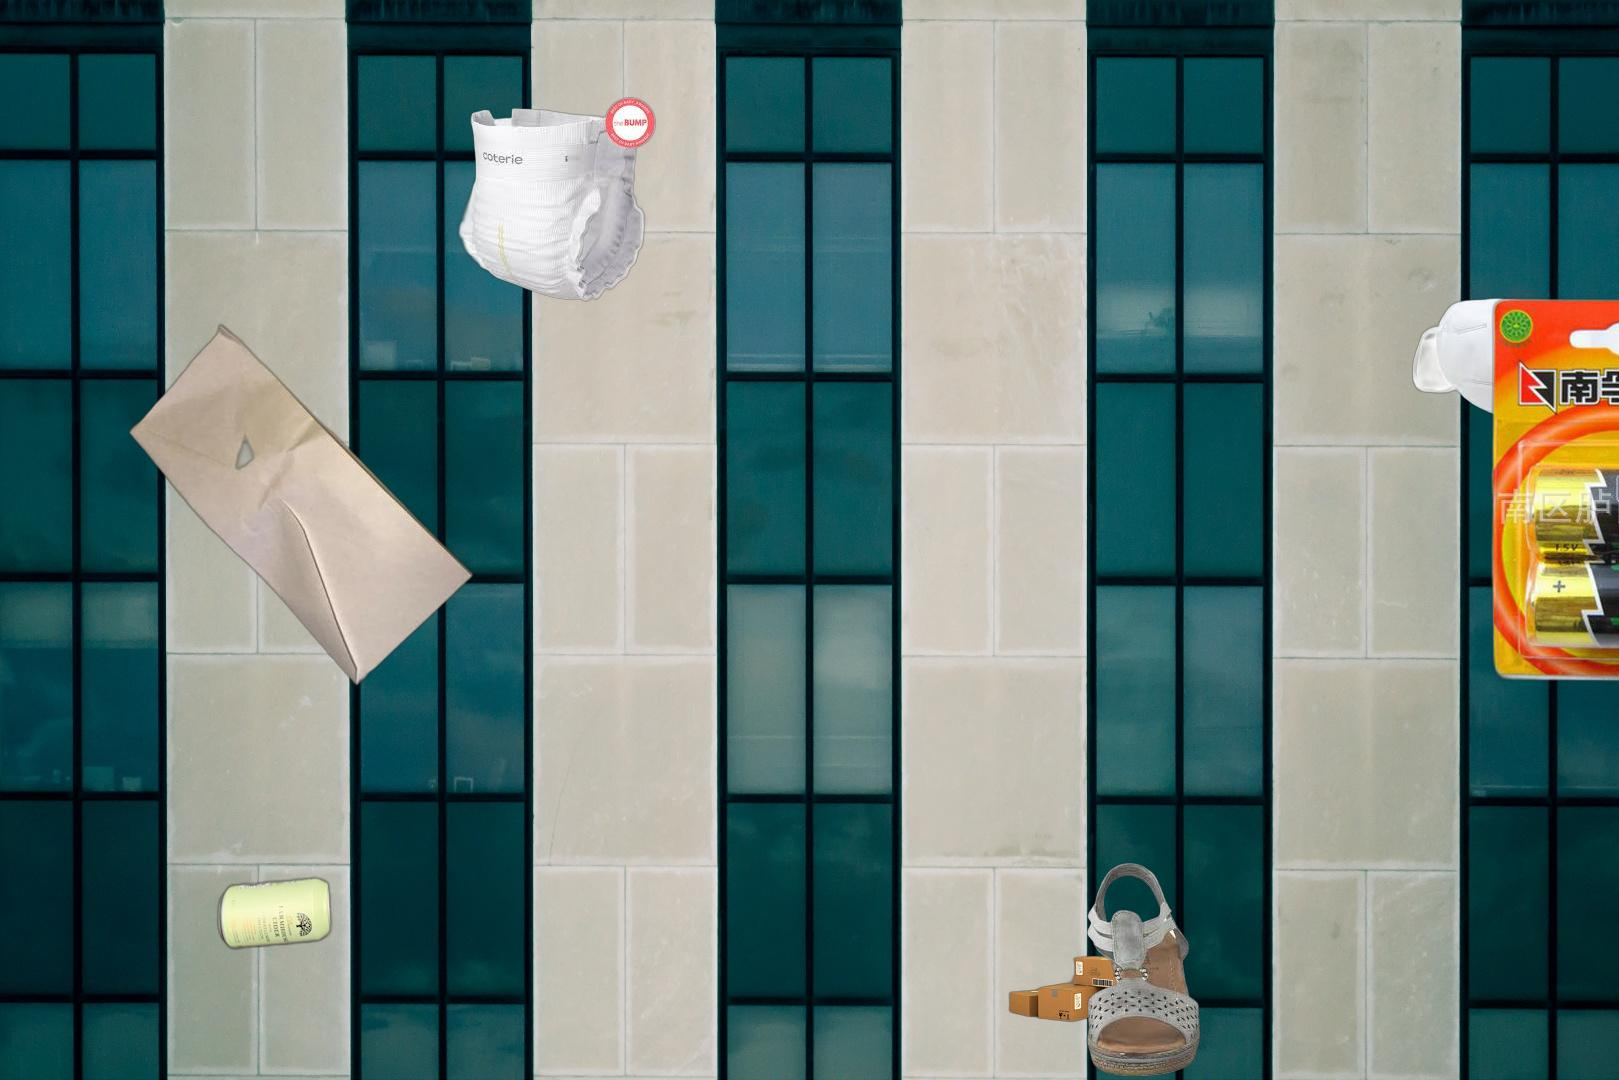battery: (1486, 294, 1619, 686)
metal-cans: (215, 871, 336, 955)
paper: (125, 322, 479, 689)
shoes: (1084, 861, 1204, 1079)
trash: (453, 95, 658, 304), (1410, 295, 1603, 419)
trashbox-cardboard: (1004, 953, 1180, 1025)
